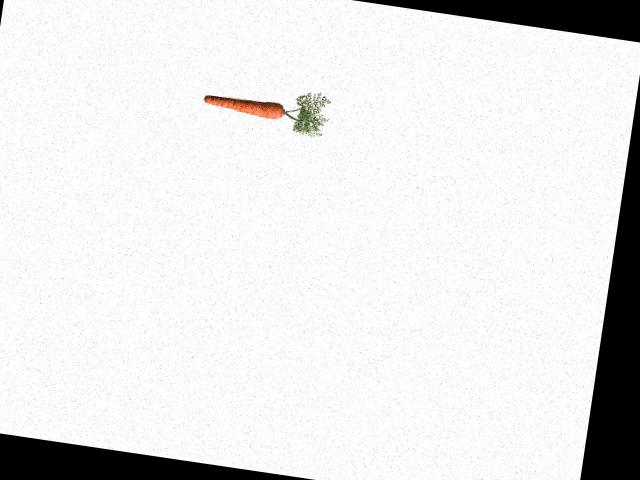carrot: (198, 86, 292, 125)
